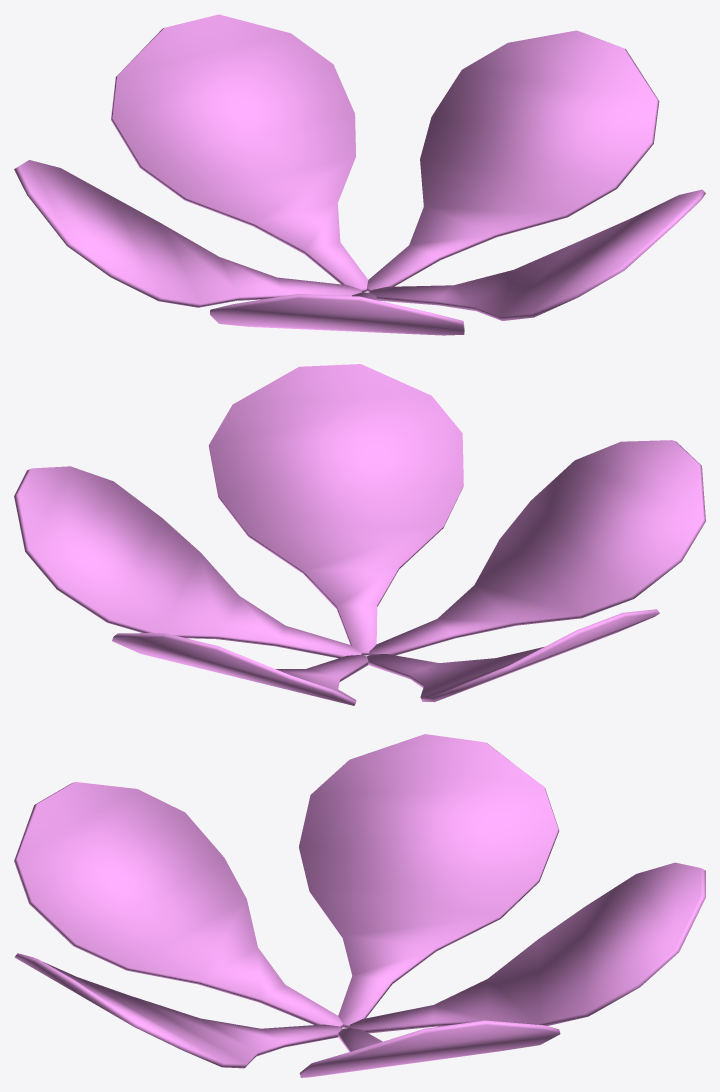
The model's file is Flower_11.fbx.
3 renders of one model, top to bottom at view 1: azimuth 30°, elevation 25°; view 2: azimuth 150°, elevation 25°; view 3: azimuth 270°, elevation 25°, orthographic. The views are drawn at different scales.
Parts seen in each view (by area): view 1: Flower_11; view 2: Flower_11; view 3: Flower_11.
Boxes of the visible parts, left/top/right/bottom form: Flower_11: left=14, top=14, right=705, bottom=335; Flower_11: left=14, top=364, right=705, bottom=705; Flower_11: left=14, top=734, right=705, bottom=1077.
Bounding box in the file's own units: 43.11 × 10.04 × 42.22.
